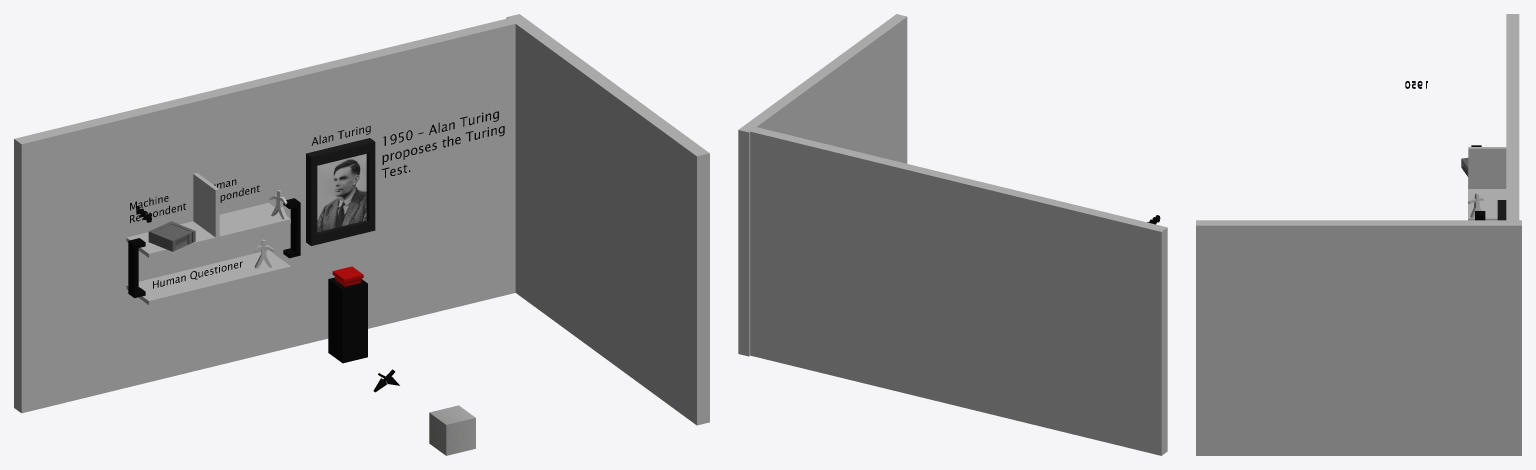
3 views of the same model, side by side, from view 1: azimuth 30°, elevation 25°; view 2: azimuth 150°, elevation 25°; view 3: azimuth 270°, elevation 25° (orthographic). The views are drawn at different scales.
Visible parts, largest first — view 1: pCube252, pCube268, pCube249, pCube263, pCube269, pCube253, pCube255, pCube254, typeMesh15, pCube257, pCube266, pCube267; view 2: pCube252, pCube268; view 3: pCube268, pCube252, pCube254, pCube253.
Part boxes in pixels (left/top/right/bottom): pCube252: left=14, top=16, right=523, bottom=413; pCube268: left=506, top=14, right=709, bottom=425; pCube249: left=306, top=138, right=375, bottom=245; pCube263: left=126, top=250, right=290, bottom=305; pCube269: left=328, top=277, right=367, bottom=363; pCube253: left=126, top=203, right=290, bottom=257; pCube255: left=429, top=405, right=475, bottom=455; pCube254: left=193, top=173, right=219, bottom=237; typeMesh15: left=381, top=111, right=504, bottom=177; pCube257: left=148, top=221, right=195, bottom=251; pCube266: left=128, top=238, right=145, bottom=298; pCube267: left=283, top=198, right=300, bottom=258; pCube252: left=743, top=126, right=1167, bottom=455; pCube268: left=738, top=14, right=907, bottom=356; pCube268: left=1196, top=220, right=1521, bottom=455; pCube252: left=1506, top=14, right=1519, bottom=223; pCube254: left=1468, top=147, right=1506, bottom=188; pCube253: left=1468, top=177, right=1506, bottom=220.
Size of the model in its own units: 17.14 by 10 by 11.14.
Materials: 8 (2 with a texture image).
